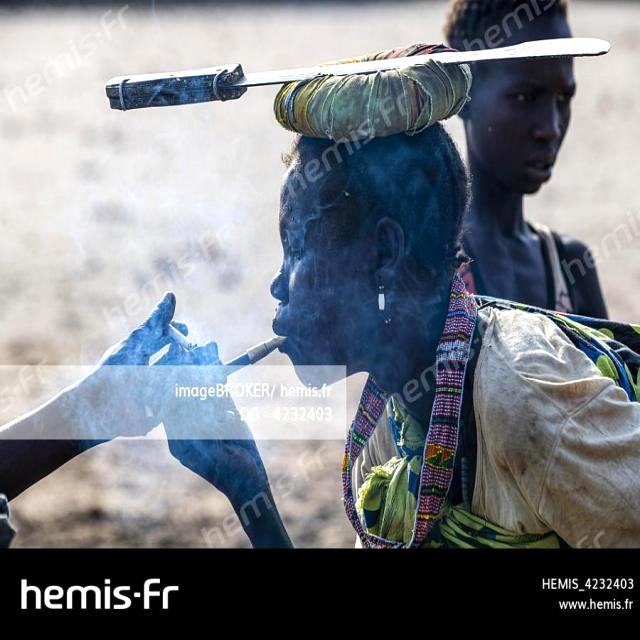long knife: (87, 30, 608, 130)
